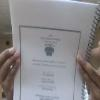notebook: (7, 0, 99, 99)
